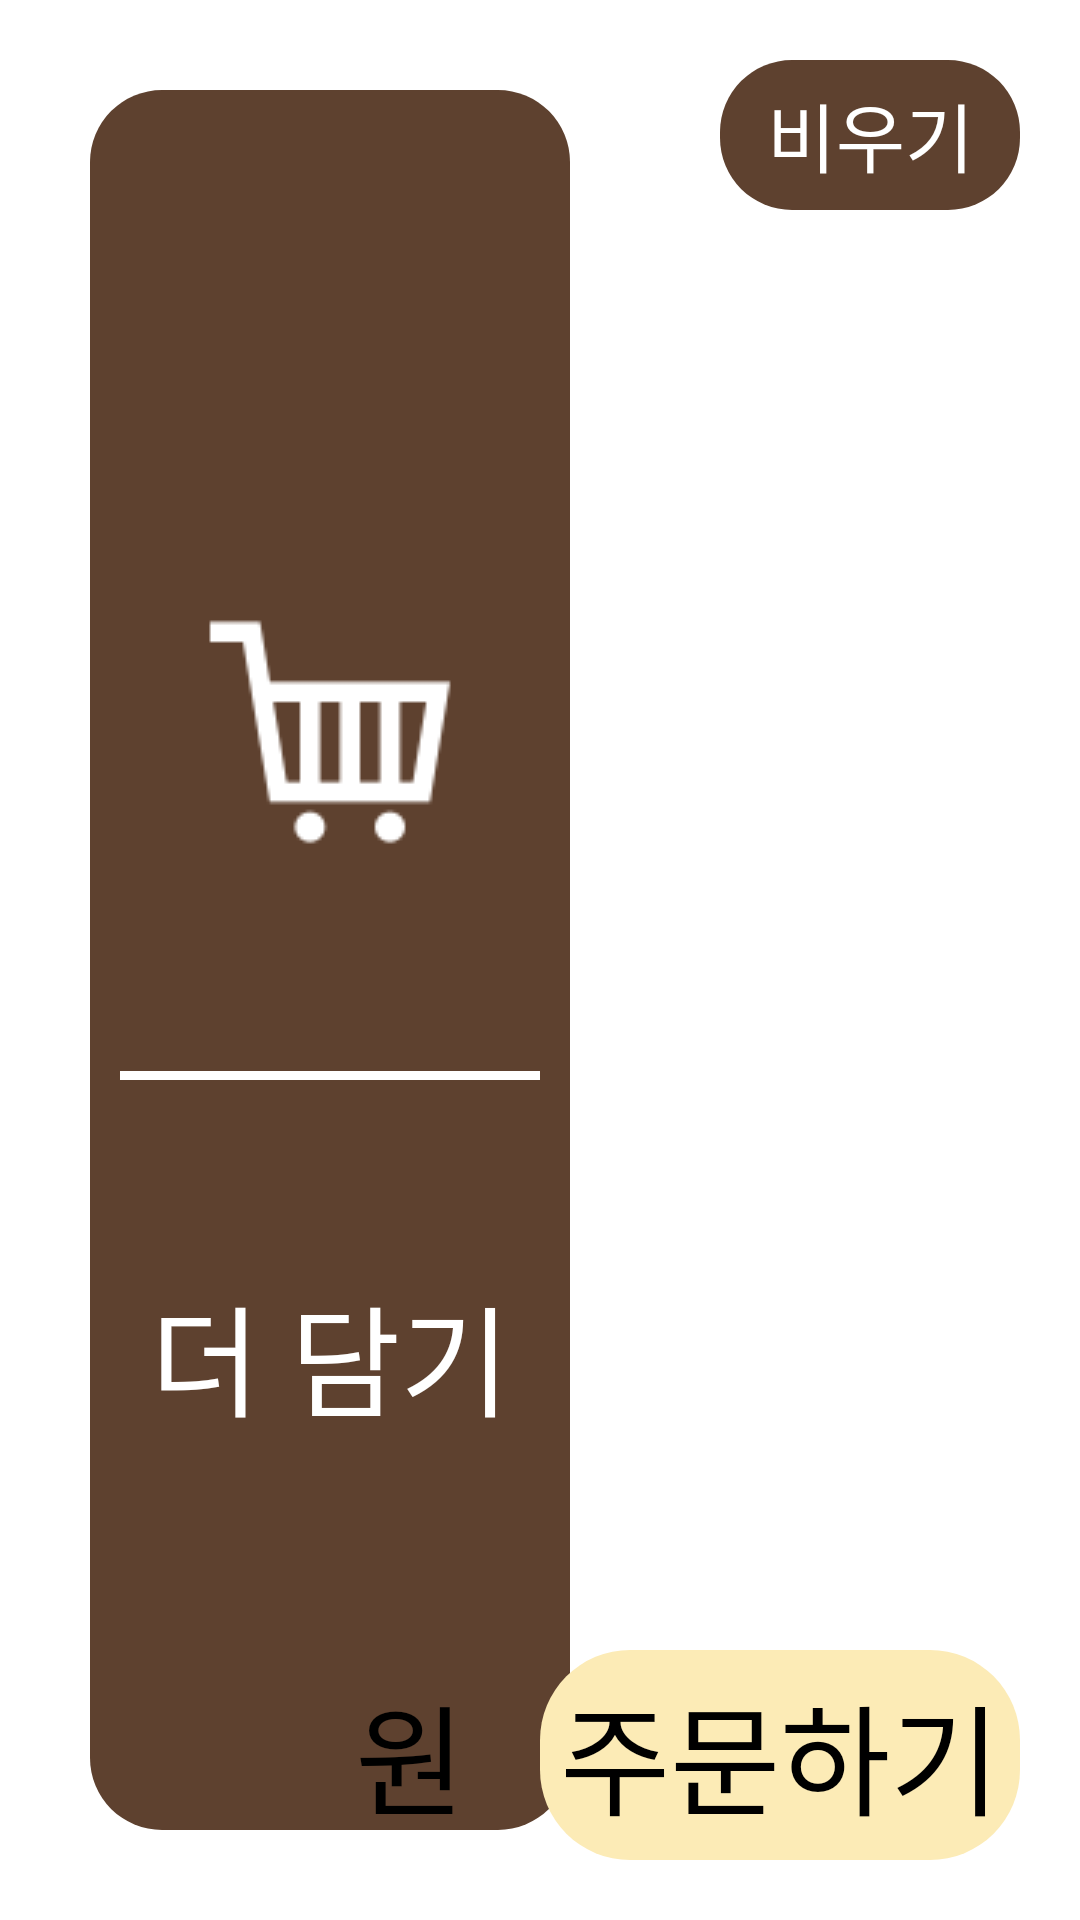

Icons on this 1080*1920 Android screen, each with the point to tap as (x,y):
shopping cart: (330,732)
